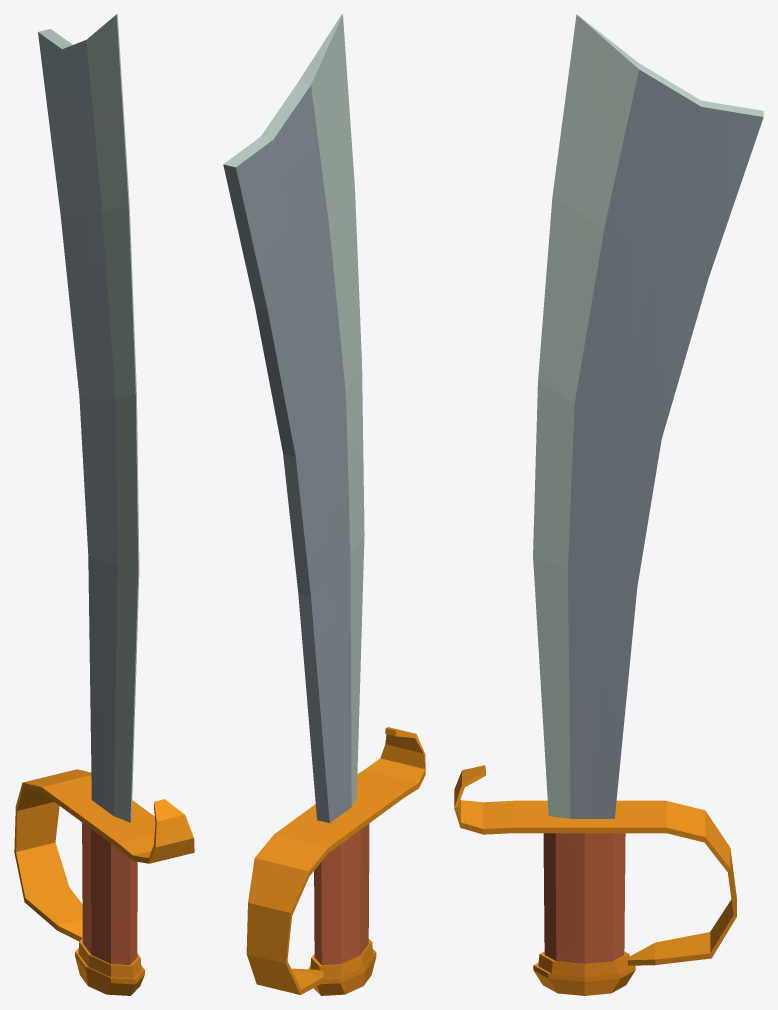
The model's file is Cutlass.fbx.
3 views of the same model, side by side, from view 1: azimuth 30°, elevation 25°; view 2: azimuth 150°, elevation 25°; view 3: azimuth 270°, elevation 25° (orthographic).
Parts seen in each view (by area): view 1: Cube, Cube.001; view 2: Cube, Cube.001; view 3: Cube, Cube.001.
Part boxes in pixels (left/top/right/bottom): Cube: left=38, top=14, right=144, bottom=995; Cube.001: left=14, top=769, right=194, bottom=941; Cube: left=223, top=14, right=376, bottom=995; Cube.001: left=246, top=727, right=425, bottom=994; Cube: left=533, top=14, right=763, bottom=995; Cube.001: left=454, top=765, right=736, bottom=965.
Size of the model in its own units: 21.65 by 350 by 101.
